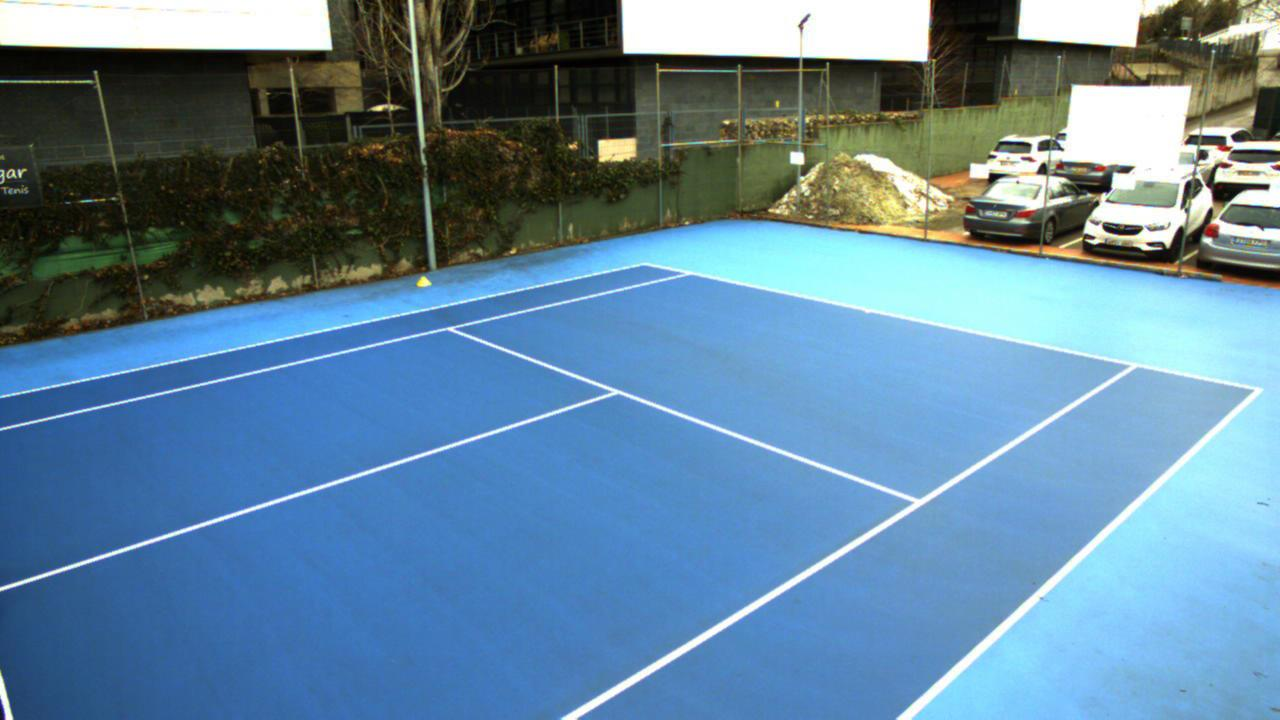cancha_tenis: (0, 271, 1137, 720)
point_f1: (673, 266, 697, 283)
point_f2: (1114, 353, 1144, 380)
point_fc1: (859, 306, 874, 320)
point_i1: (436, 319, 468, 341)
point_i2: (895, 489, 932, 520)
point_ic1: (597, 377, 630, 405)
